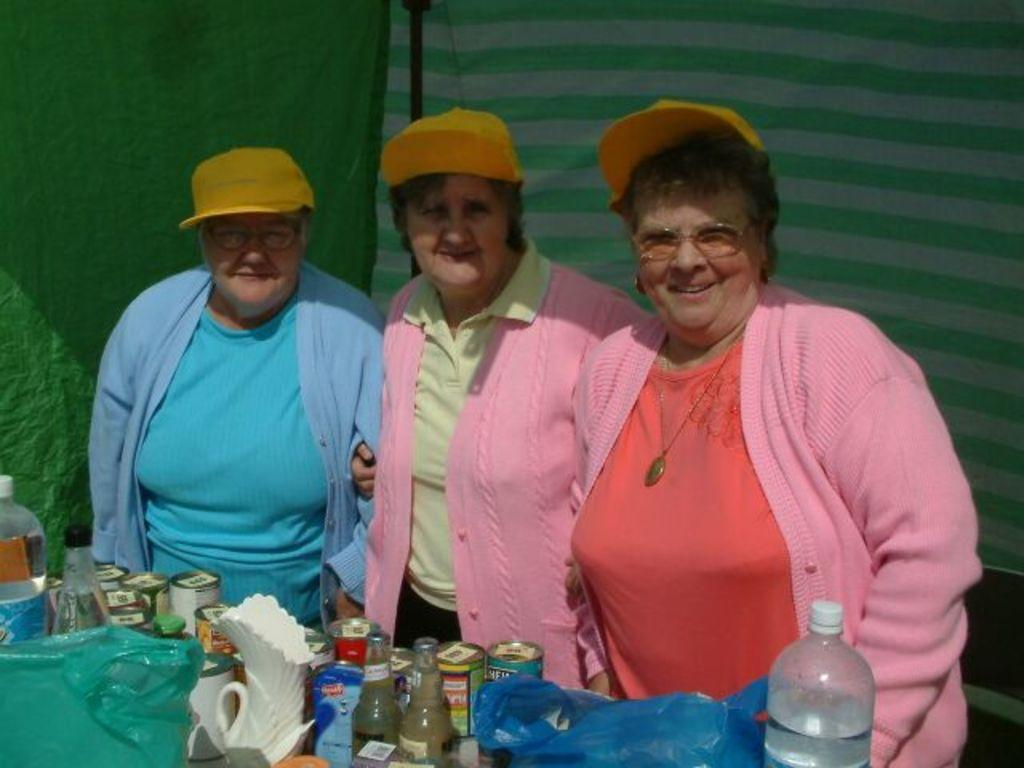Hat: (596, 94, 758, 222), (176, 146, 312, 240), (379, 104, 523, 188)
